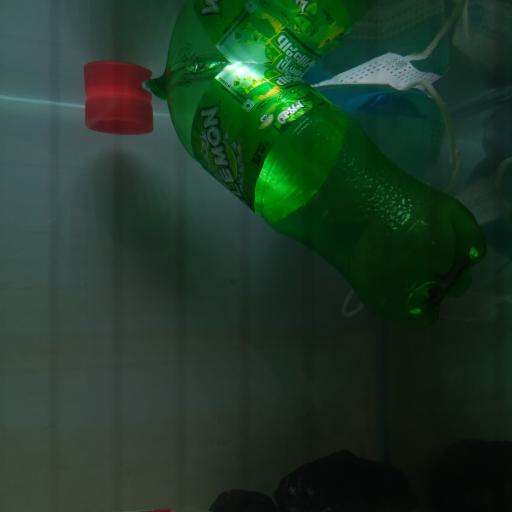bottle_cap: (84, 92, 155, 134)
mask: (307, 50, 459, 320)
plastic_bottle: (162, 61, 487, 333)
